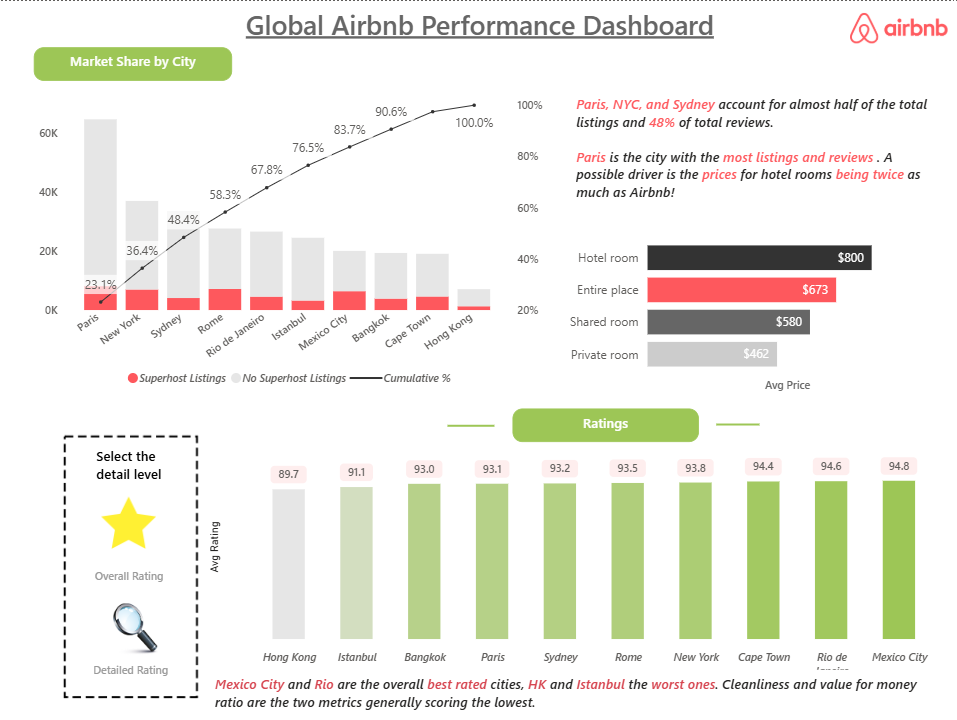

The dashboard page shown, as its layout file describes it:
{"tool":"powerbi","page":{"name":"Ratings","canvas":[960,720],"ordinal":1},"visuals":[{"type":"textbox","box":[216.4,0,527.2,53.1],"z":0},{"type":"image","box":[849.4,8.6,97.5,37],"z":1000},{"type":"textbox","box":[33.3,45.7,198.8,33.3],"z":2000},{"type":"lineStackedColumnComboChart","fields":{"Category":["Listings.city"],"Y":["Listings.Superhost Listings","Listings.No Superhost Listings"],"Y2":["Listings.Cumulative %"]},"box":[33.3,88.9,514.8,306.2],"z":3000},{"type":"barChart","fields":{"Y":["Listings.Avg Price"],"Category":["Listings.room_type"]},"box":[559.3,218.5,374.1,176.5],"z":4000},{"type":"textbox","box":[571.6,88.9,374.1,129.6],"z":5000},{"type":"columnChart","fields":{"Category":["Listings.city"],"Y":["Listings.Avg Rating"]},"box":[203.6,440.5,745.2,245.2],"z":6000},{"type":"image","box":[4.9,424.7,251.9,281.5],"z":7000},{"type":"textbox","box":[91.4,440.7,90.1,46.9],"z":9000},{"type":"image","box":[76.5,492.6,105.1,58.5],"z":9000,"group":"g1"},{"type":"textbox","box":[512.3,407.4,186.4,33.3],"z":10000},{"type":"image","box":[99.3,602.5,72,51.7],"z":10000,"group":"g2"},{"type":"shape","box":[446.9,356.8,46.9,137],"z":11000},{"type":"textbox","box":[79.9,559.5,98.3,31.4],"z":11002,"group":"g1"},{"type":"textbox","box":[84,654.2,94.1,28.8],"z":11003,"group":"g2"},{"type":"shape","box":[716,355.6,43.2,137],"z":12000},{"type":"group","id":"g1","title":"Group 1","box":[76.5,492.6,104.9,98.8],"z":13000},{"type":"group","id":"g2","title":"Group 2","box":[84,602.5,93.8,80.2],"z":14000},{"type":"textbox","box":[209.5,669,729.8,46.4],"z":15000}]}

Visuals, with their boxes in screenshot pixels (x1, y1, x2, y2), scaled from the page's 960x720 canvas onto the 957x720 screenshot:
textbox: [left=216, top=0, right=741, bottom=53]
image: [left=847, top=9, right=944, bottom=46]
textbox: [left=33, top=46, right=231, bottom=79]
lineStackedColumnComboChart - Listings.city x Listings.Superhost Listings: [left=33, top=89, right=546, bottom=395]
barChart - Listings.Avg Price x Listings.room_type: [left=558, top=218, right=930, bottom=395]
textbox: [left=570, top=89, right=943, bottom=218]
columnChart - Listings.city x Listings.Avg Rating: [left=203, top=440, right=946, bottom=686]
image: [left=5, top=425, right=256, bottom=706]
textbox: [left=91, top=441, right=181, bottom=488]
image: [left=76, top=493, right=181, bottom=551]
textbox: [left=511, top=407, right=697, bottom=441]
image: [left=99, top=602, right=171, bottom=654]
shape: [left=446, top=357, right=492, bottom=494]
textbox: [left=80, top=560, right=178, bottom=591]
textbox: [left=84, top=654, right=178, bottom=683]
shape: [left=714, top=356, right=757, bottom=493]
"Group 1" group: [left=76, top=493, right=181, bottom=591]
"Group 2" group: [left=84, top=602, right=177, bottom=683]
textbox: [left=209, top=669, right=936, bottom=715]
